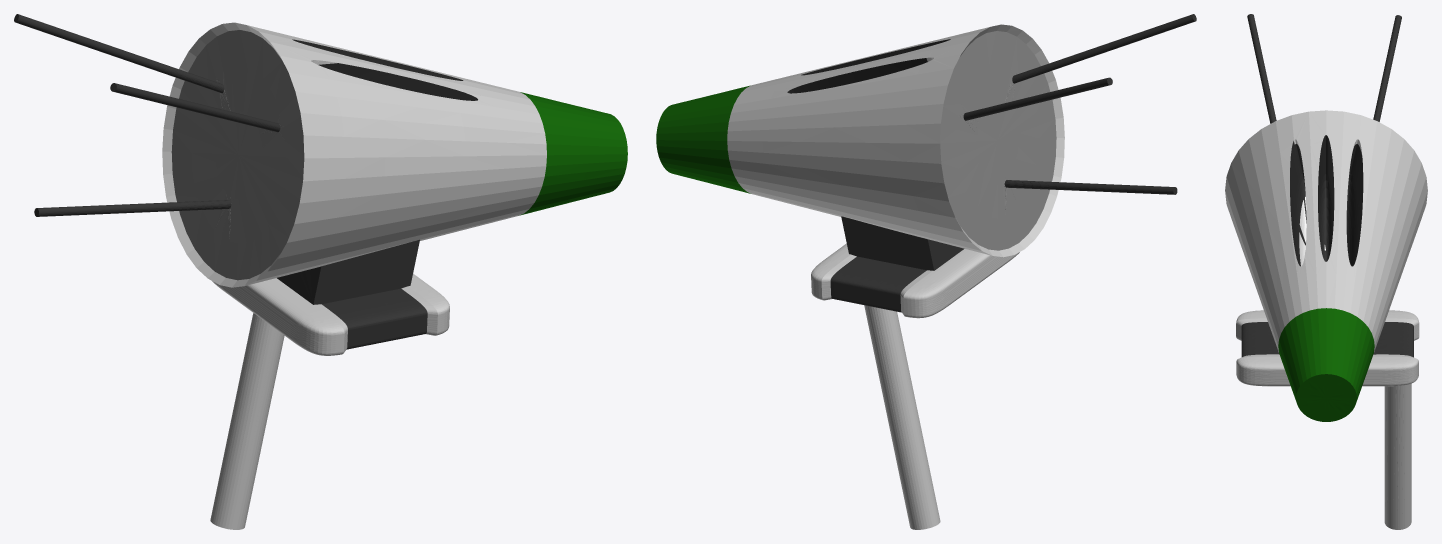
Rendered from d0_head.obj.
3 views of the same model, side by side, from view 1: azimuth 30°, elevation 25°; view 2: azimuth 150°, elevation 25°; view 3: azimuth 270°, elevation 25° (orthographic). The views are drawn at different scales.
Parts seen in each view (by area): view 1: Object.1; view 2: Object.1; view 3: Object.1.
Boxes of the visible parts, left/top/right/bottom form: Object.1: left=14, top=14, right=627, bottom=529; Object.1: left=656, top=14, right=1196, bottom=529; Object.1: left=1225, top=14, right=1427, bottom=529.
Size of the model in its own units: 1.52 by 1.41 by 0.6015.
